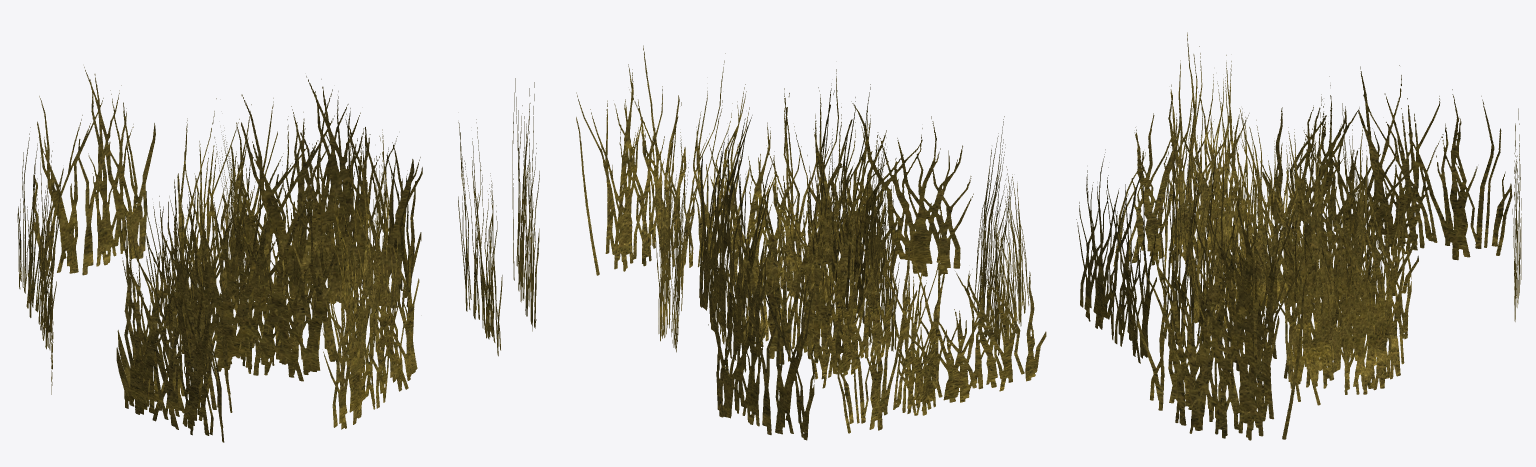
File: grass_3d_05_yellow.glb
The picture shows the model from 3 angles, left to right: view 1: azimuth 30°, elevation 25°; view 2: azimuth 150°, elevation 25°; view 3: azimuth 270°, elevation 25°; orthographic projection. The views are drawn at different scales.
Visible parts, largest first — view 1: grass_cards; view 2: grass_cards; view 3: grass_cards.
Part boxes in pixels (x1,y1,x2,y2): grass_cards: (17, 67, 539, 442); grass_cards: (576, 45, 1046, 440); grass_cards: (1076, 32, 1521, 440).
Size of the model in its own units: 1.16 by 0.608 by 0.947.
1 material, 1 textured.
